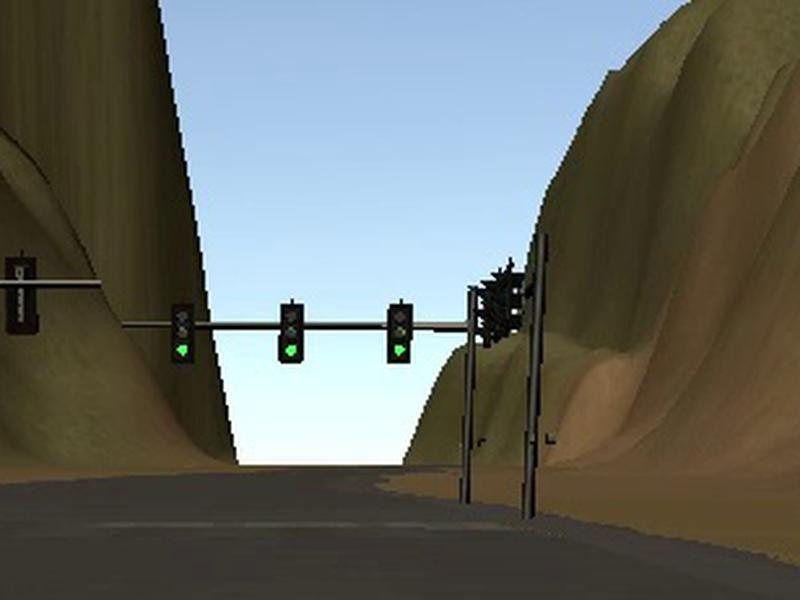Green: (386, 304, 413, 363), (277, 304, 304, 363), (172, 303, 195, 364)
